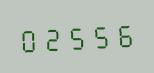five: (64, 20, 86, 52), (87, 19, 109, 51)
six: (110, 18, 132, 50)
two: (41, 21, 63, 53)
zero: (18, 23, 40, 54)
